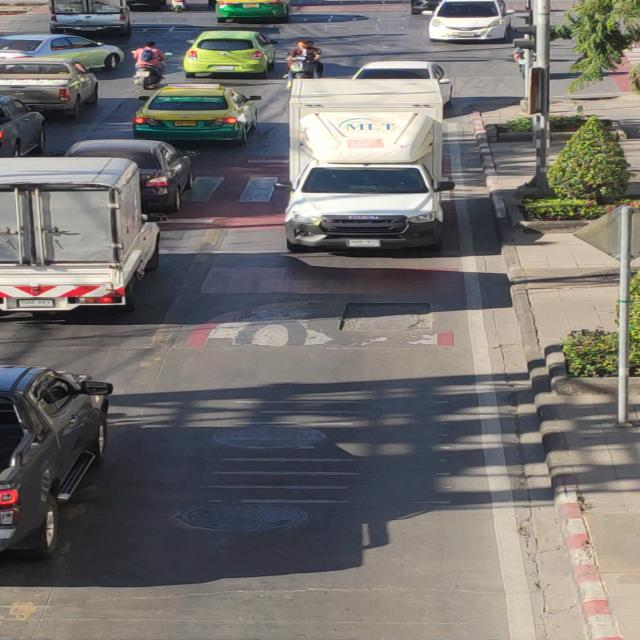car: (288, 79, 452, 259)
